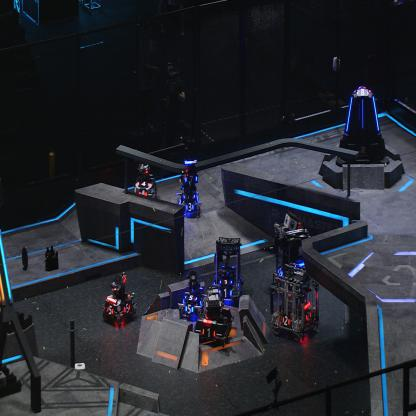car: (270, 263, 320, 342), (190, 282, 235, 350), (274, 219, 314, 288), (210, 234, 244, 306), (102, 269, 138, 327), (178, 272, 206, 321), (174, 174, 200, 218), (133, 163, 157, 201)
